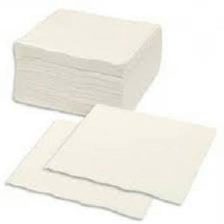tissue: (0, 98, 224, 224), (3, 2, 170, 124)
